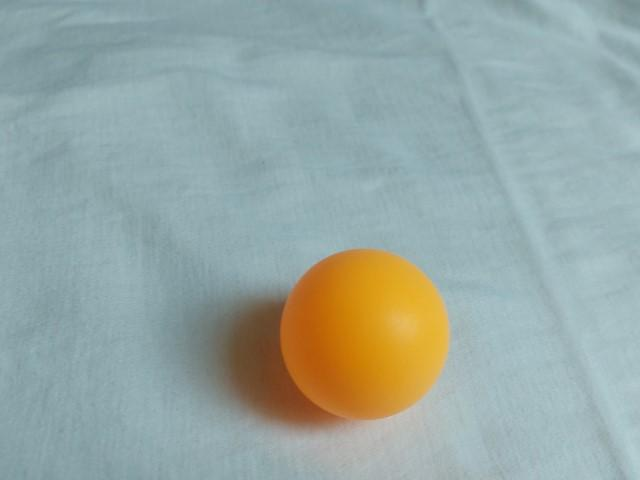oball: (270, 243, 462, 429)
